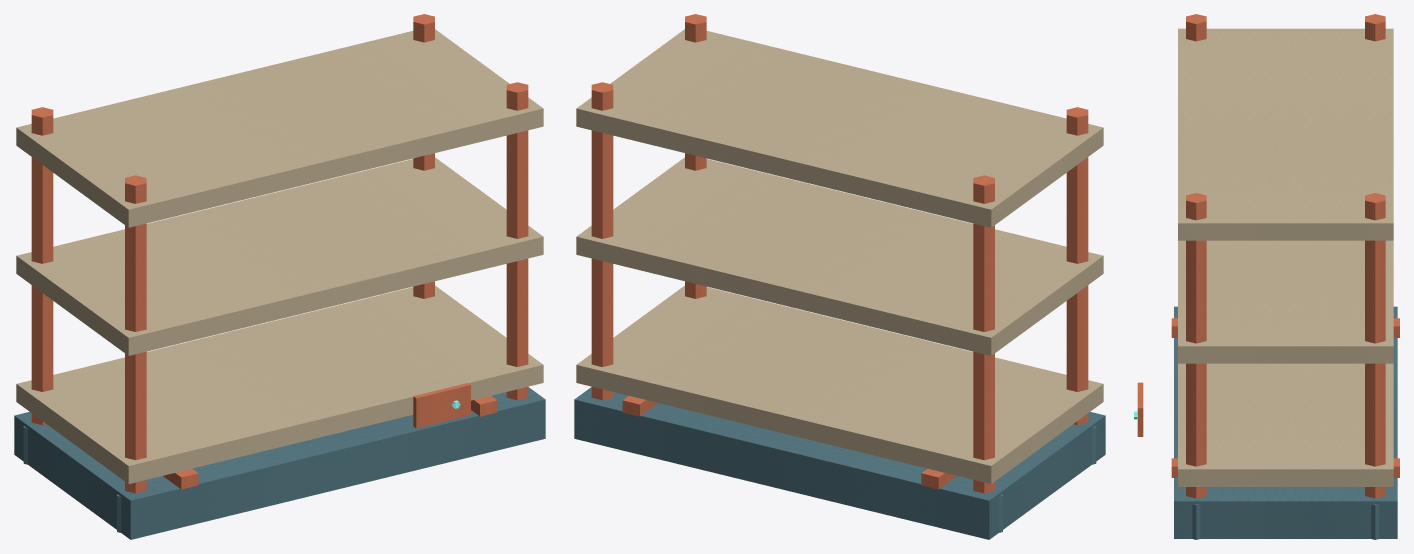
File: atlas100-s045-a06.lod1.glb
3 renders of one model, left to right at view 1: azimuth 30°, elevation 25°; view 2: azimuth 150°, elevation 25°; view 3: azimuth 270°, elevation 25°, orthographic. The views are drawn at different scales.
Visible parts, largest first — view 1: atlas100-s045-a06:part-013, atlas100-s045-a06:part-012, atlas100-s045-a06:part-011, atlas100-s045-a06:part-000, atlas100-s045-a06:part-009, atlas100-s045-a06:part-005, atlas100-s045-a06:part-003, atlas100-s045-a06:part-014, atlas100-s045-a06:part-007; view 2: atlas100-s045-a06:part-013, atlas100-s045-a06:part-012, atlas100-s045-a06:part-011, atlas100-s045-a06:part-000, atlas100-s045-a06:part-007, atlas100-s045-a06:part-003, atlas100-s045-a06:part-005, atlas100-s045-a06:part-009; view 3: atlas100-s045-a06:part-013, atlas100-s045-a06:part-012, atlas100-s045-a06:part-011, atlas100-s045-a06:part-000, atlas100-s045-a06:part-009, atlas100-s045-a06:part-007, atlas100-s045-a06:part-003, atlas100-s045-a06:part-005, atlas100-s045-a06:part-014.
Part boxes in pixels (box(x1,y1,x2,y2)): atlas100-s045-a06:part-013: box(16, 29, 543, 227); atlas100-s045-a06:part-012: box(16, 157, 543, 355); atlas100-s045-a06:part-011: box(16, 285, 543, 483); atlas100-s045-a06:part-000: box(14, 387, 545, 539); atlas100-s045-a06:part-009: box(506, 82, 528, 400); atlas100-s045-a06:part-005: box(125, 175, 146, 493); atlas100-s045-a06:part-003: box(31, 107, 53, 425); atlas100-s045-a06:part-014: box(413, 383, 470, 428); atlas100-s045-a06:part-007: box(413, 14, 434, 298); atlas100-s045-a06:part-013: box(576, 29, 1103, 227); atlas100-s045-a06:part-012: box(576, 157, 1103, 355); atlas100-s045-a06:part-011: box(576, 285, 1103, 483); atlas100-s045-a06:part-000: box(574, 387, 1105, 539); atlas100-s045-a06:part-007: box(591, 82, 613, 400); atlas100-s045-a06:part-003: box(973, 175, 994, 493); atlas100-s045-a06:part-005: box(1066, 107, 1088, 425); atlas100-s045-a06:part-009: box(685, 14, 706, 298); atlas100-s045-a06:part-013: box(1178, 28, 1393, 240); atlas100-s045-a06:part-012: box(1178, 240, 1393, 363); atlas100-s045-a06:part-011: box(1178, 363, 1393, 486); atlas100-s045-a06:part-000: box(1174, 306, 1397, 538); atlas100-s045-a06:part-009: box(1186, 193, 1206, 498); atlas100-s045-a06:part-007: box(1365, 193, 1385, 498); atlas100-s045-a06:part-003: box(1365, 14, 1385, 41); atlas100-s045-a06:part-005: box(1186, 14, 1206, 41); atlas100-s045-a06:part-014: box(1137, 382, 1143, 436).
Size of the model in its own units: 2.91 by 2.3 by 1.66.
4 materials, 4 textured.
